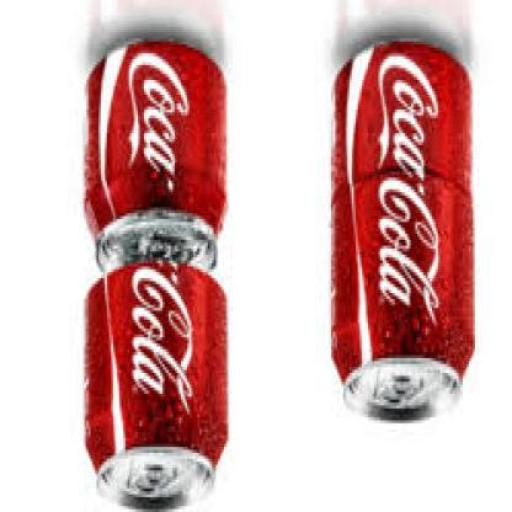metal: (332, 39, 477, 435), (86, 263, 232, 511), (84, 39, 228, 275)
